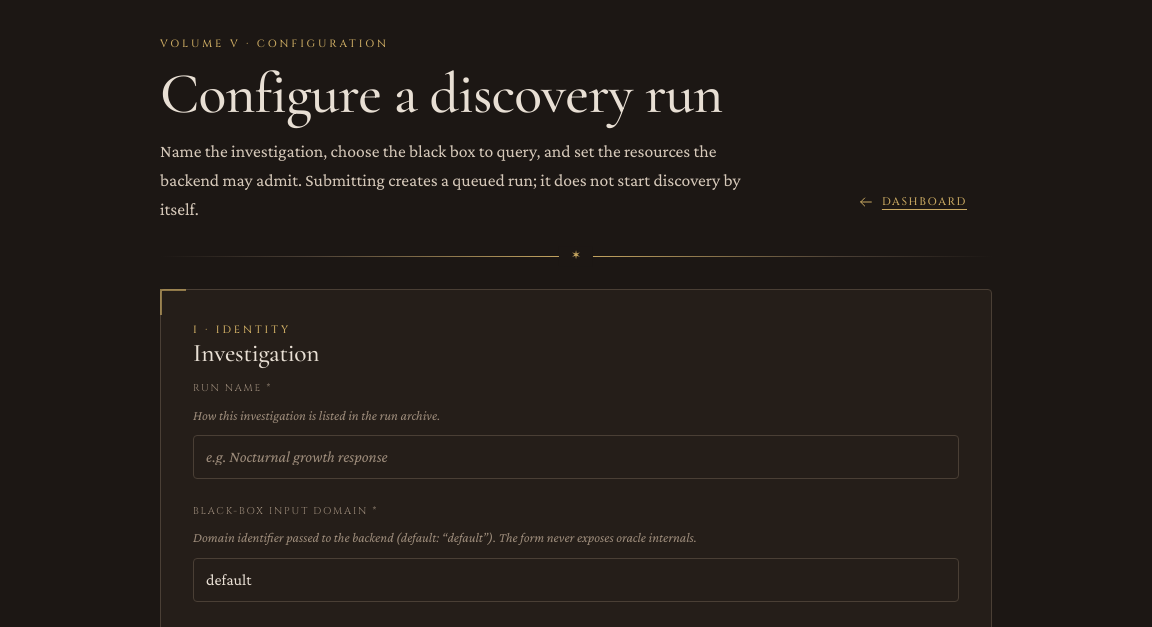
Scenario: CreateRunPage › rejects negative budgets before submission
The image size is (1152, 627).
Type "Nocturnal growth response" into the field labelled "Run name *".
click(576, 457); type("Nocturnal growth response")  # box [193, 435, 959, 479]
(page scrolled)
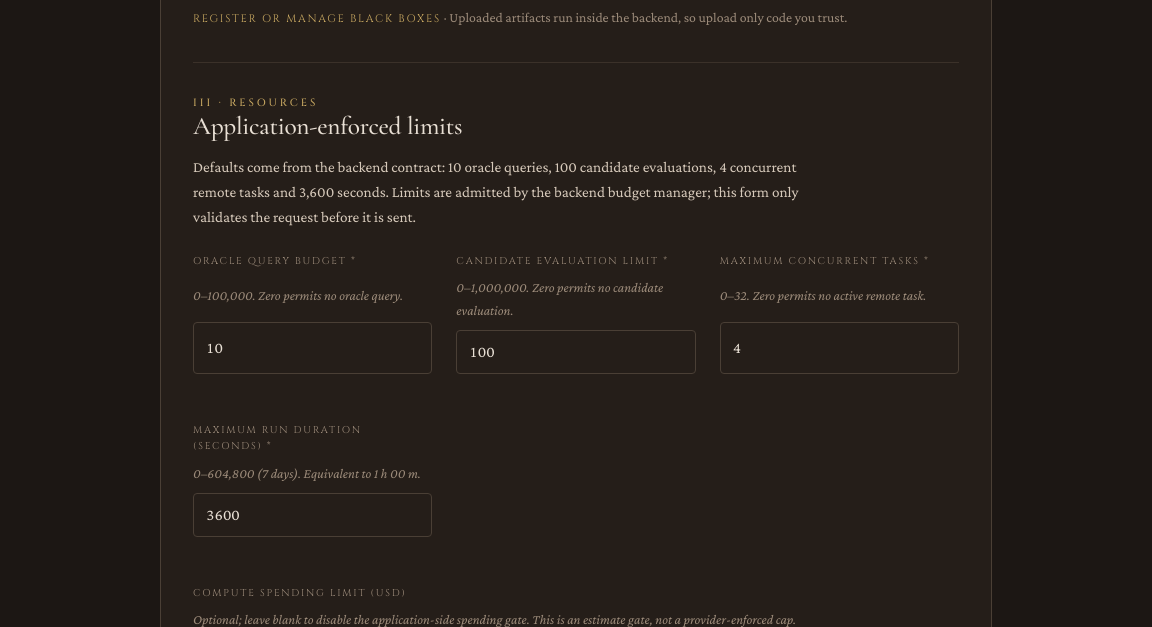
Replace the text in the field labelled "Oracle query budget *" with "-5" at (313, 348), box [193, 322, 432, 374]
(page scrolled)
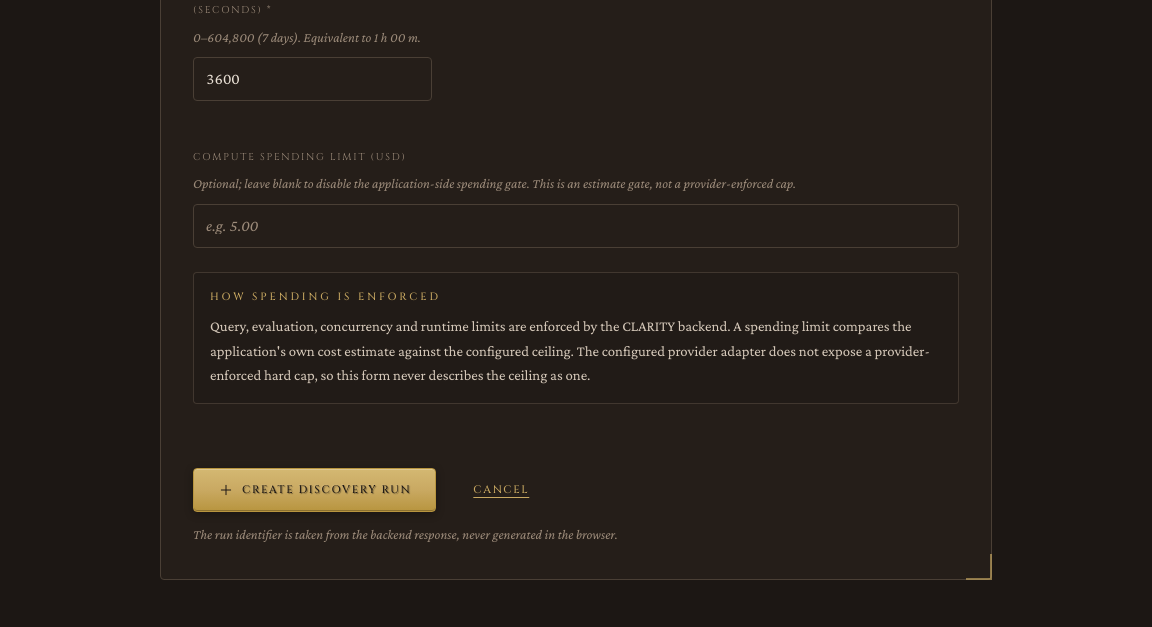
Click the button "Create discovery run".
click(315, 490)  # box [193, 468, 436, 512]
(page scrolled)
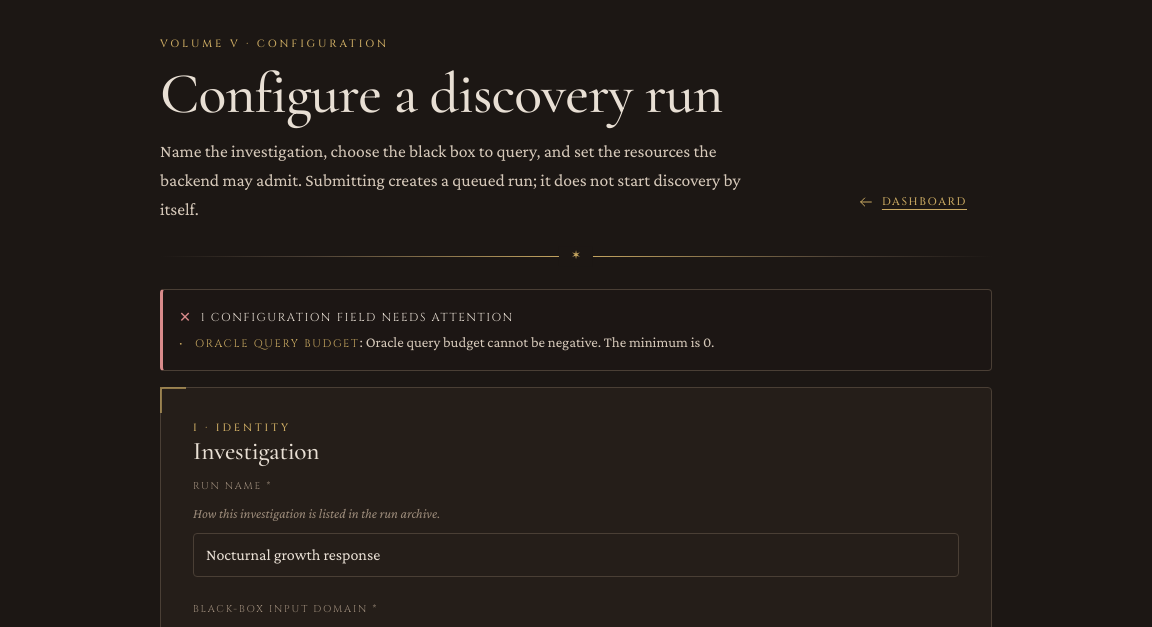
Now the list item "Oracle query budget cannot be negative" is shown, box [366, 334, 714, 350]
